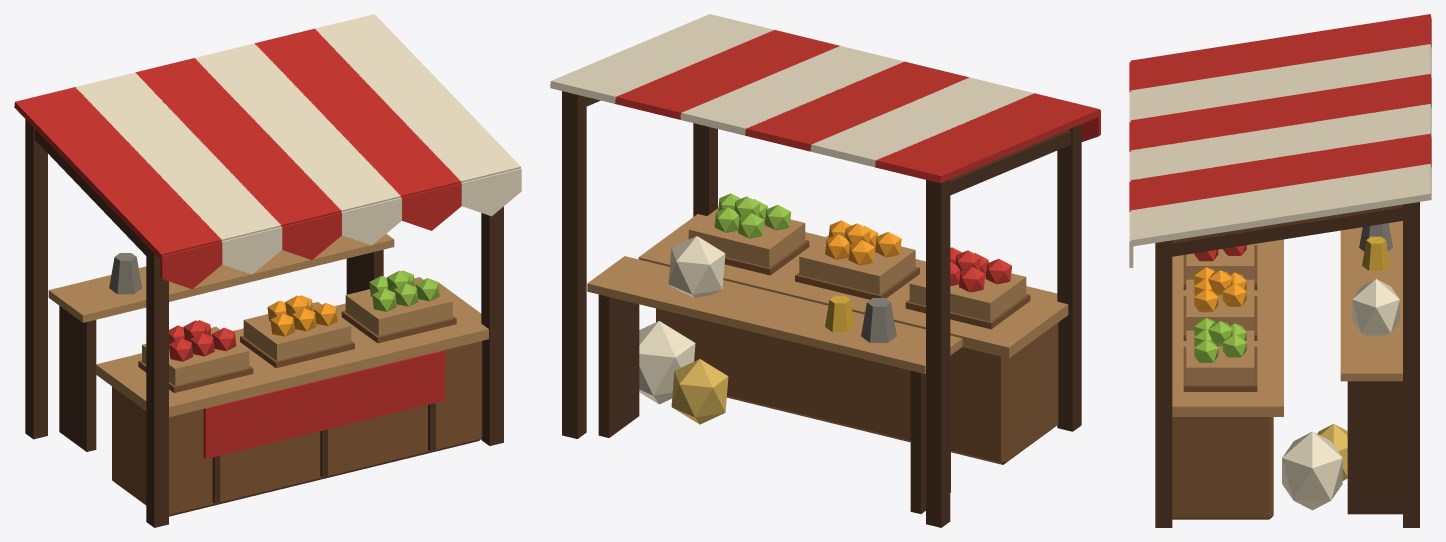
Rendered from Marktstand_Rot.fbx.
3 renders of one model, left to right at view 1: azimuth 30°, elevation 25°; view 2: azimuth 150°, elevation 25°; view 3: azimuth 270°, elevation 25°, orthographic. The views are drawn at different scales.
Parts seen in each view (by area): view 1: Marktstand_Rot; view 2: Marktstand_Rot; view 3: Marktstand_Rot.
Boxes of the visible parts, x1,y1,x2,y2 form: Marktstand_Rot: [14, 14, 521, 527]; Marktstand_Rot: [550, 14, 1100, 527]; Marktstand_Rot: [1129, 14, 1431, 527].
Size of the model in its own units: 3.01 by 2.63 by 2.14.
